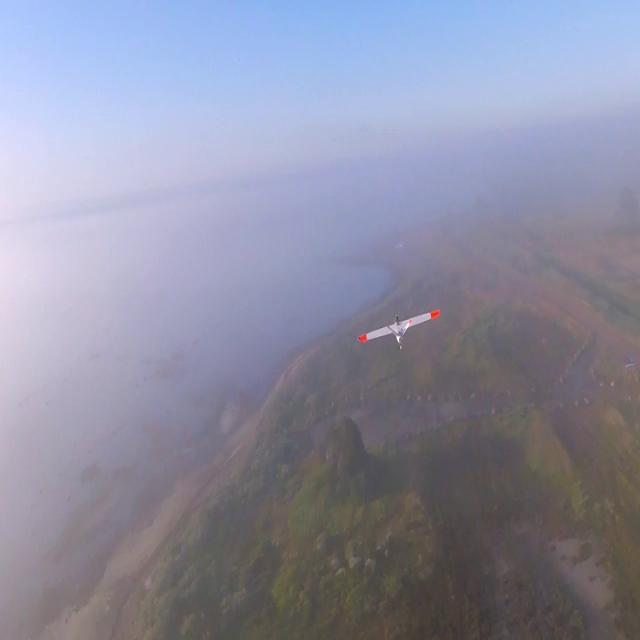iha: (390, 299, 410, 348)
